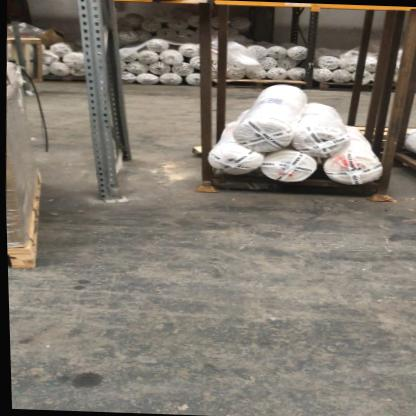vertical_damage: (89, 174, 129, 207)
